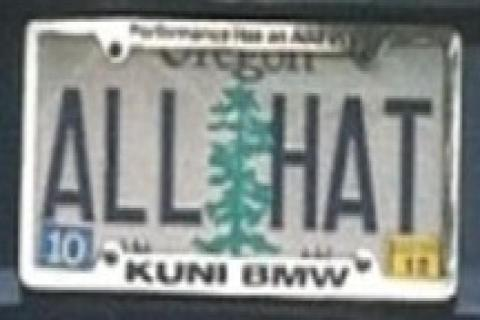LicensePlate: (19, 18, 465, 304)
